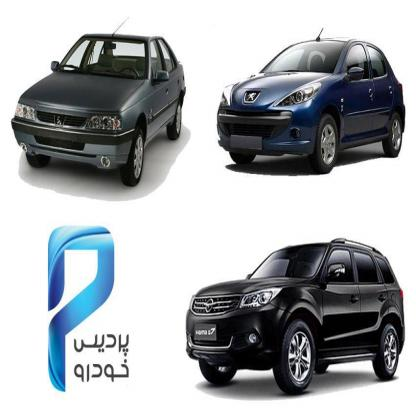Car: (182, 233, 404, 396), (214, 33, 405, 177), (11, 28, 187, 177)
